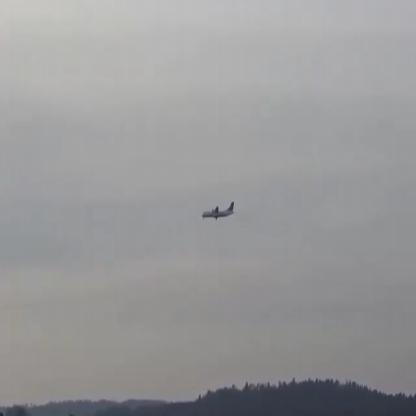CIV_Plane: (201, 201, 235, 219)
